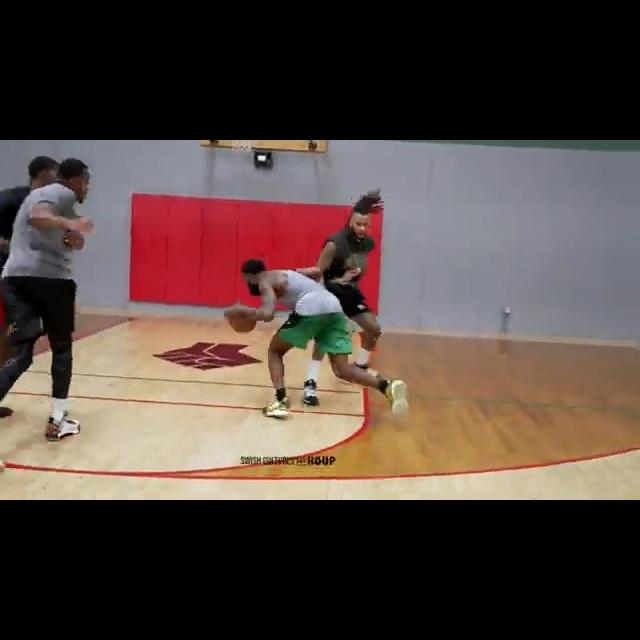basketball: (231, 305, 258, 332)
hoop: (233, 140, 253, 154)
